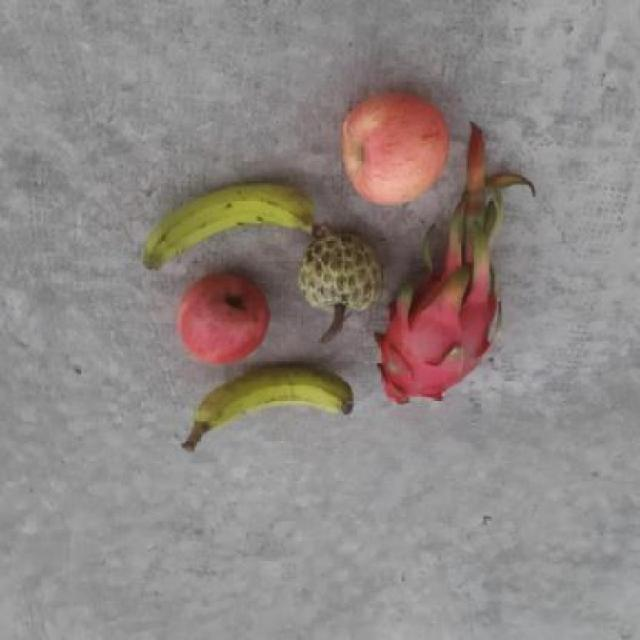apple: (336, 90, 453, 212), (169, 274, 271, 368)
banana: (143, 181, 320, 274), (194, 368, 363, 430)
dragon fruit: (370, 255, 508, 410)
sugar apple: (299, 231, 383, 312)
